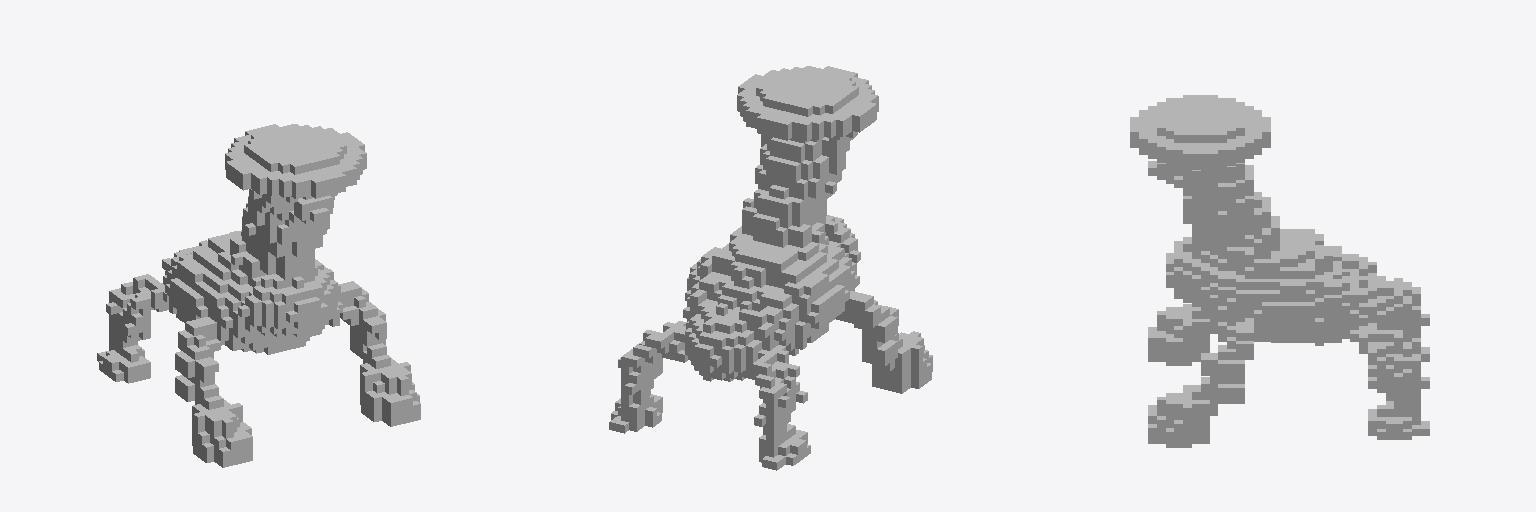
The model's file is enemy3.obj.
3 renders of one model, left to right at view 1: azimuth 30°, elevation 25°; view 2: azimuth 150°, elevation 25°; view 3: azimuth 270°, elevation 25°, orthographic.
Visible parts, largest first — view 1: object 1; view 2: object 1; view 3: object 1.
Part boxes in pixels (x1,y1,x2,y2): object 1: (97, 124, 420, 467); object 1: (609, 66, 932, 470); object 1: (1130, 95, 1429, 447).
Size of the model in its own units: 2.8 by 3.5 by 3.4.